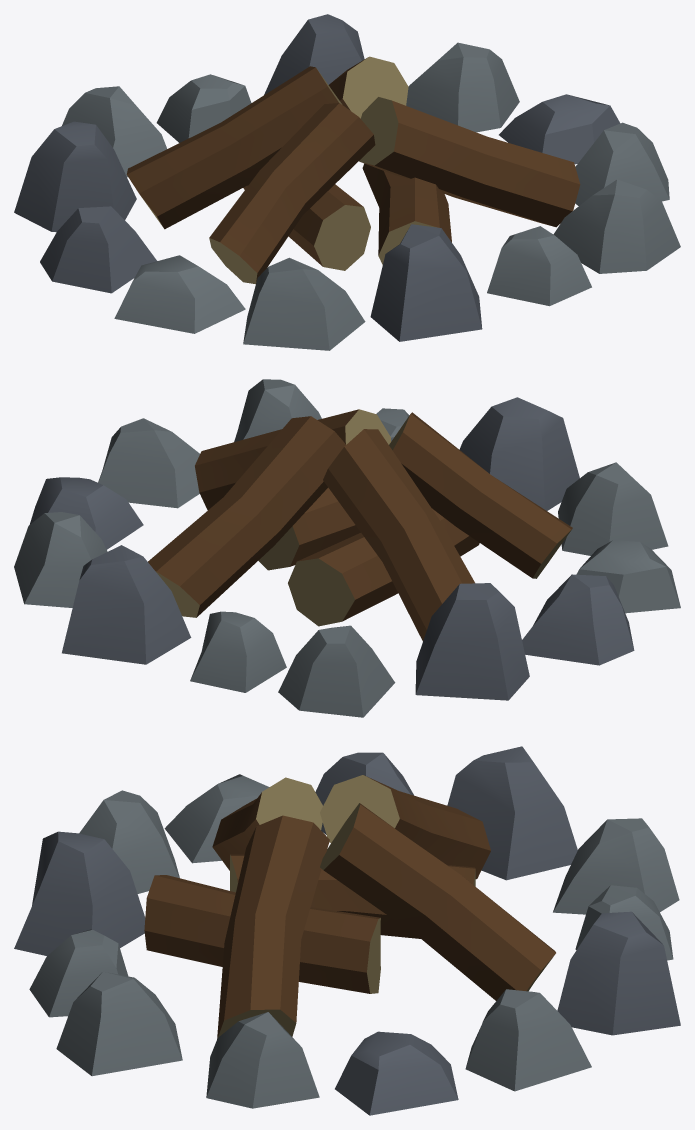
Rendered from campfire.glb.
3 renders of one model, top to bottom at view 1: azimuth 30°, elevation 25°; view 2: azimuth 150°, elevation 25°; view 3: azimuth 270°, elevation 25°, orthographic. The views are drawn at different scales.
Visible parts, largest first — view 1: Bonfire; view 2: Bonfire; view 3: Bonfire.
Boxes of the visible parts, box(x1,y1,x2,y2) form: Bonfire: box(14, 14, 680, 350); Bonfire: box(14, 379, 680, 717); Bonfire: box(14, 746, 680, 1115).
Size of the model in its own units: 0.4066 by 0.1122 by 0.3624.
